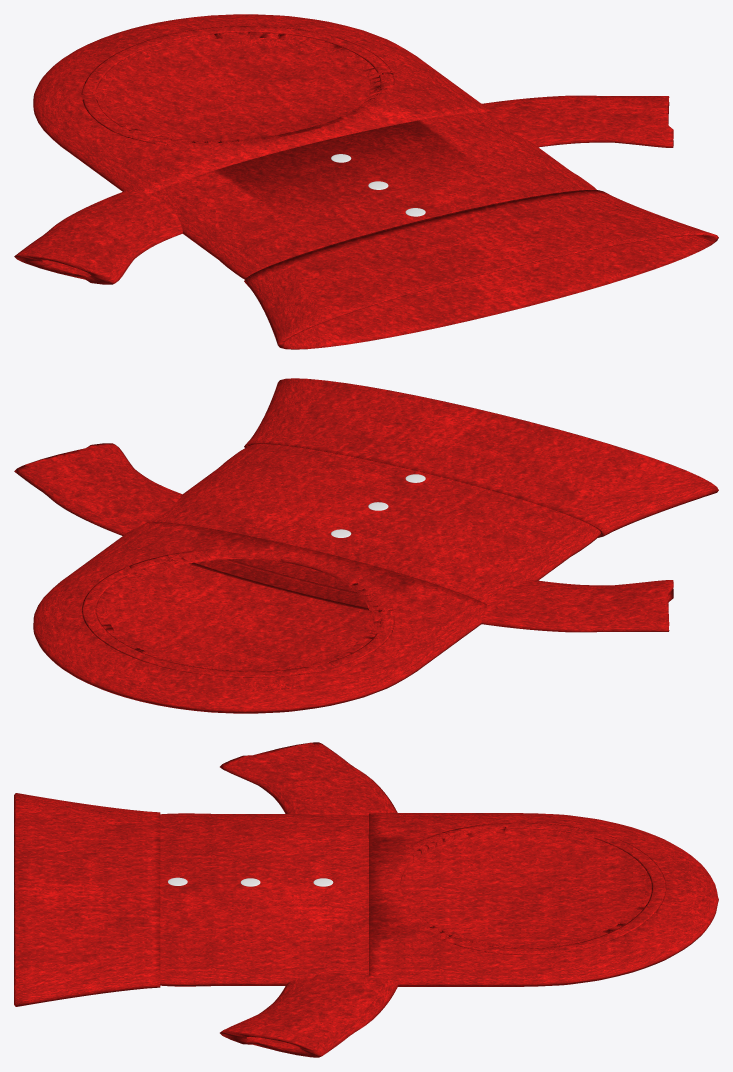
Rendered from raincoat2.fbx.
3 views of the same model, one above another, from view 1: azimuth 30°, elevation 25°; view 2: azimuth 150°, elevation 25°; view 3: azimuth 270°, elevation 25° (orthographic). The views are drawn at different scales.
Visible parts, largest first — view 1: raincoat2; view 2: raincoat2; view 3: raincoat2.
Part boxes in pixels (bbox=[...]): raincoat2: bbox=[14, 14, 718, 349]; raincoat2: bbox=[14, 378, 718, 713]; raincoat2: bbox=[14, 742, 718, 1057].
Size of the model in its own units: 1.62 by 0.105 by 1.55.
Materials: 2 (1 with a texture image).
